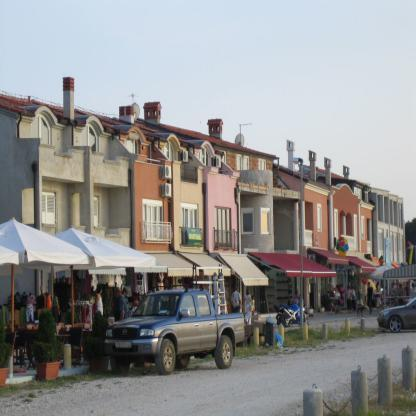Car: (378, 297, 416, 334)
Truck: (107, 294, 242, 378)
